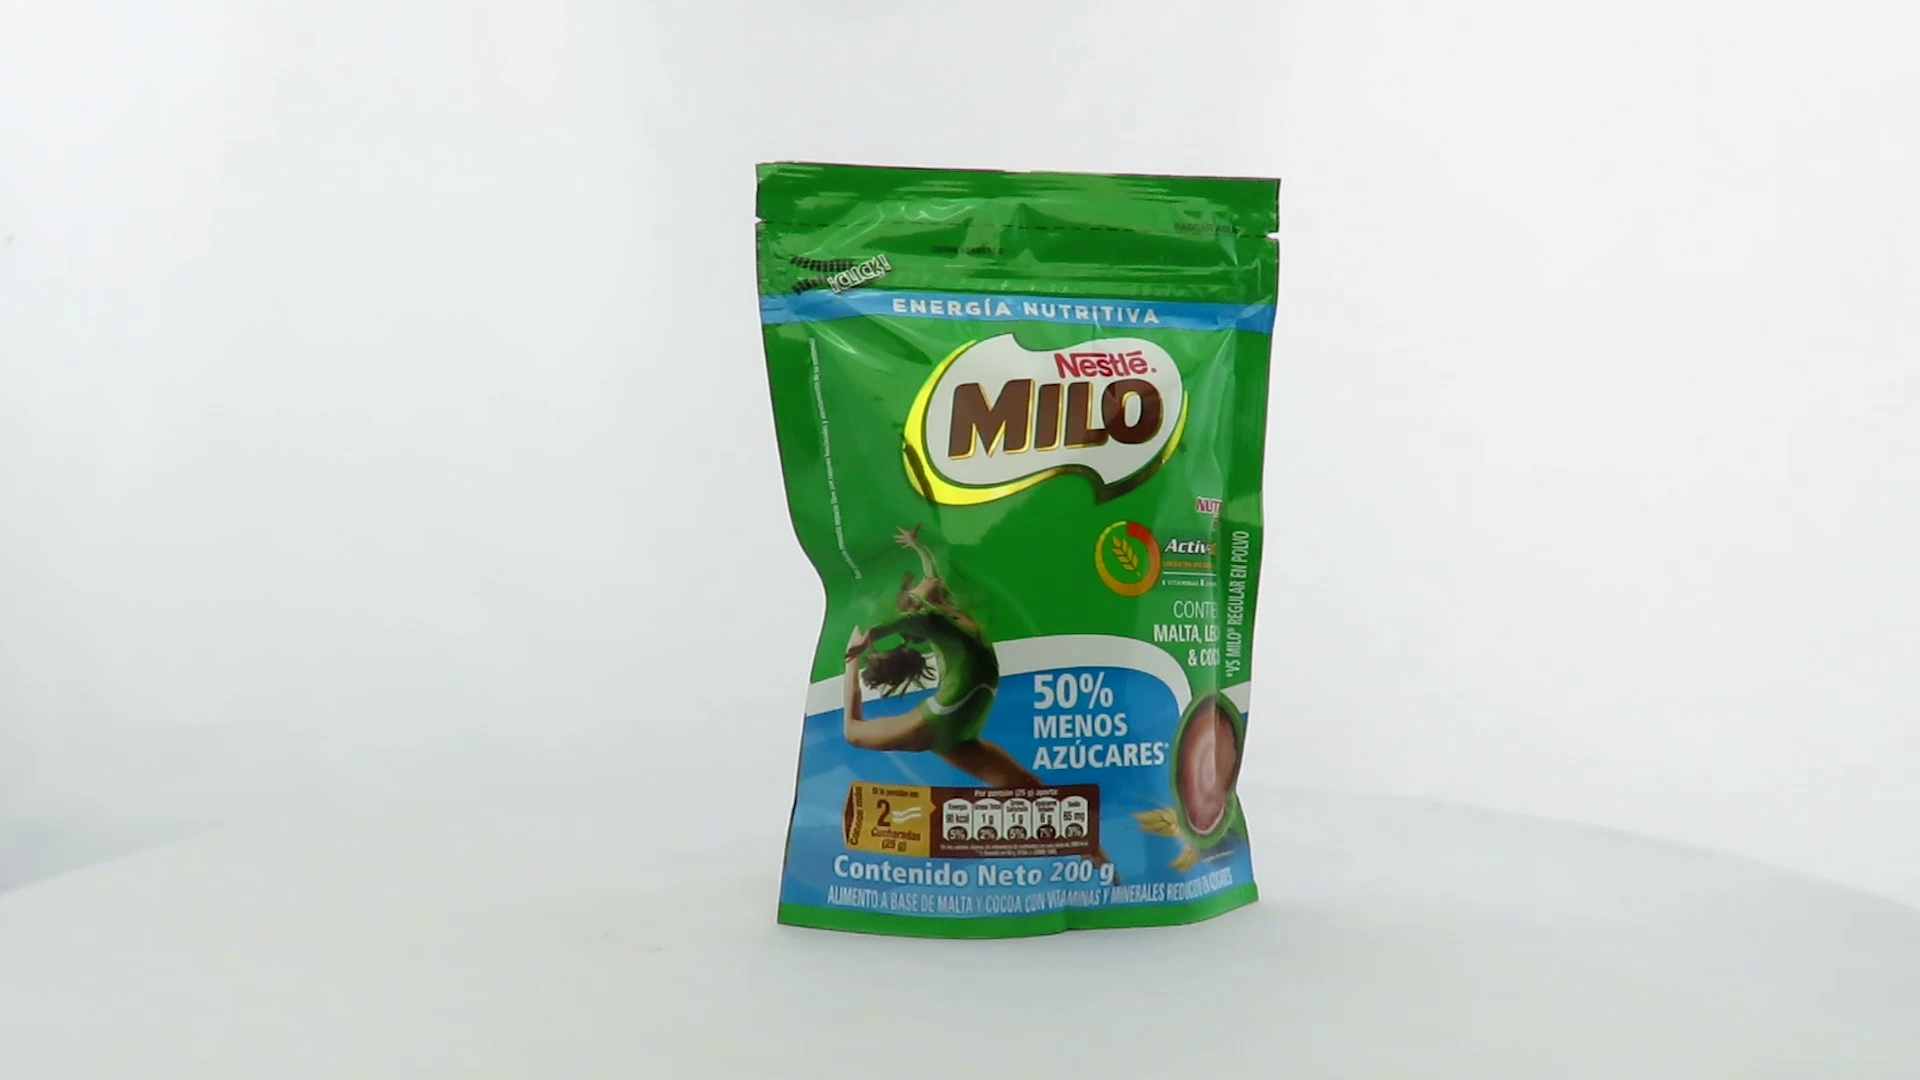COL0170205DYP20000: (750, 156, 1287, 945)
